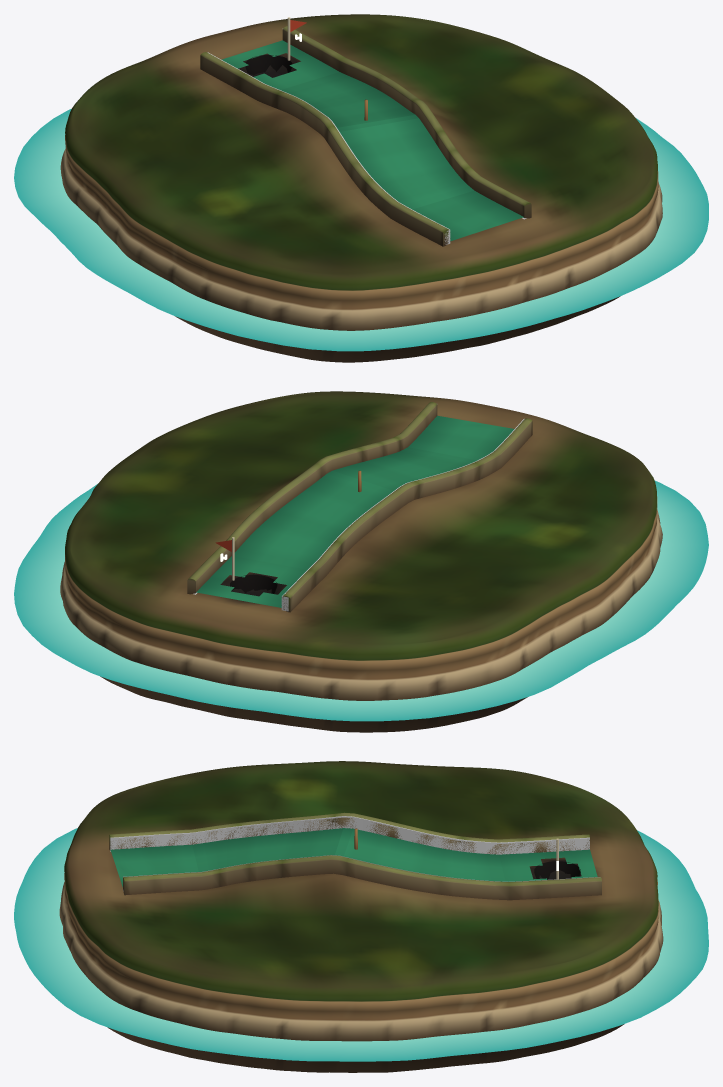
File: course-04.glb
The picture shows the model from 3 angles, top to bottom: view 1: azimuth 30°, elevation 25°; view 2: azimuth 150°, elevation 25°; view 3: azimuth 270°, elevation 25°; orthographic projection.
Parts seen in each view (by area): view 1: scenery-matte.003, water-shore, surface-grass, rail-trim-left, rail-trim-right; view 2: scenery-matte.003, water-shore, surface-grass, rail-trim-left, rail-trim-right; view 3: scenery-matte.003, water-shore, surface-grass, rail-trim-right, rail-left, rail-trim-left.
Boxes of the visible parts, box(x1,y1,x2,y2) form: scenery-matte.003: box(60, 14, 662, 362); water-shore: box(14, 109, 708, 351); surface-grass: box(222, 40, 523, 241); rail-trim-left: box(200, 52, 449, 246); rail-trim-right: box(282, 26, 531, 218); scenery-matte.003: box(60, 391, 662, 732); water-shore: box(14, 480, 708, 721); surface-grass: box(196, 415, 514, 607); rail-trim-left: box(282, 418, 532, 612); rail-trim-right: box(187, 402, 437, 594); scenery-matte.003: box(59, 761, 663, 1072); water-shore: box(14, 828, 708, 1061); surface-grass: box(110, 828, 597, 887); rail-trim-right: box(123, 855, 601, 900); rail-left: box(110, 816, 589, 854); rail-trim-left: box(109, 812, 589, 854).
Bounding box in the file's own units: 12.02 × 3.06 × 12.92.
